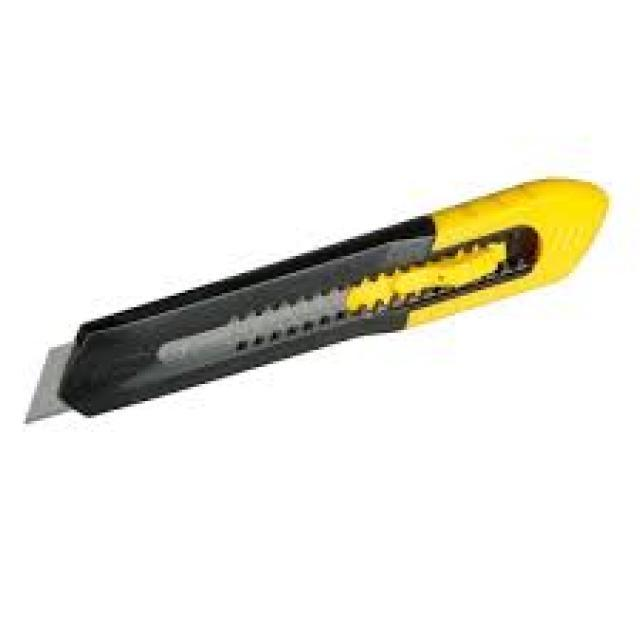cutter: (14, 169, 618, 431)
